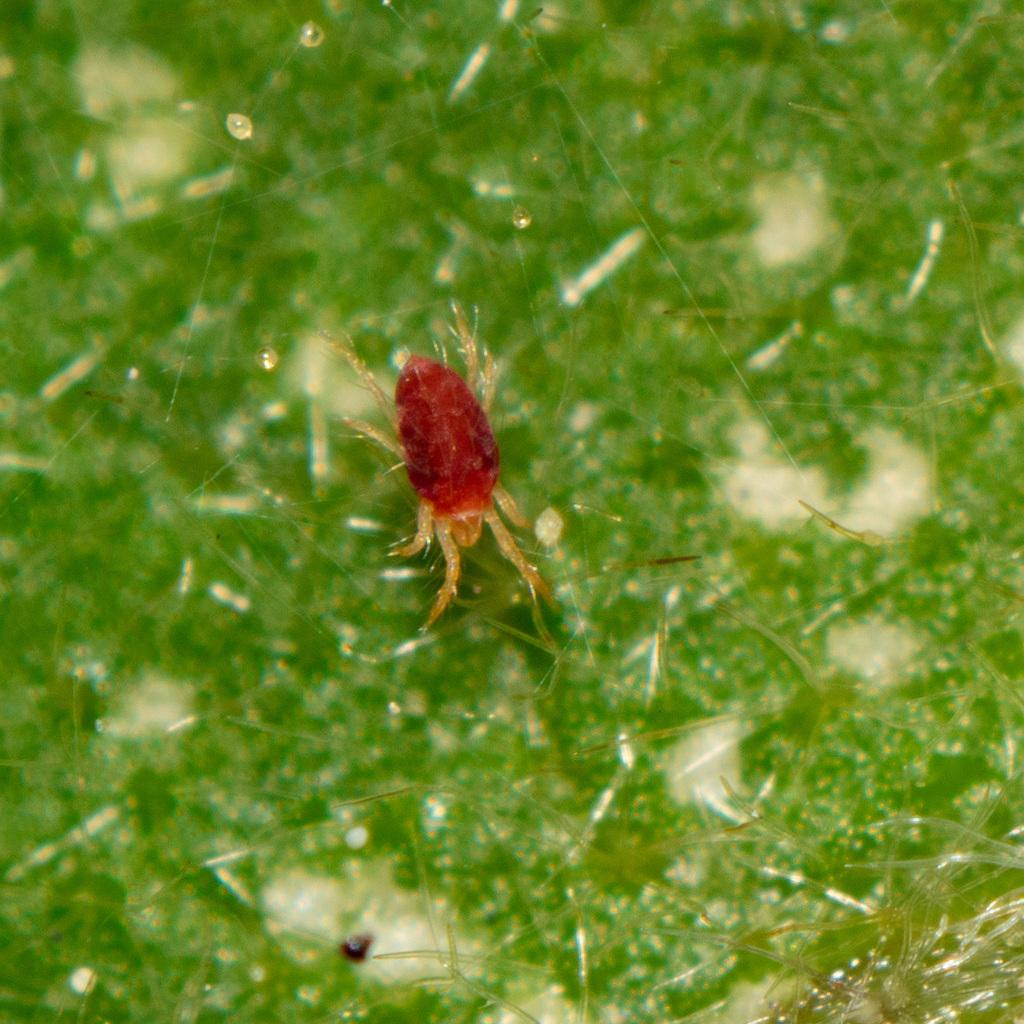tiny_pests: (270, 280, 619, 673)
